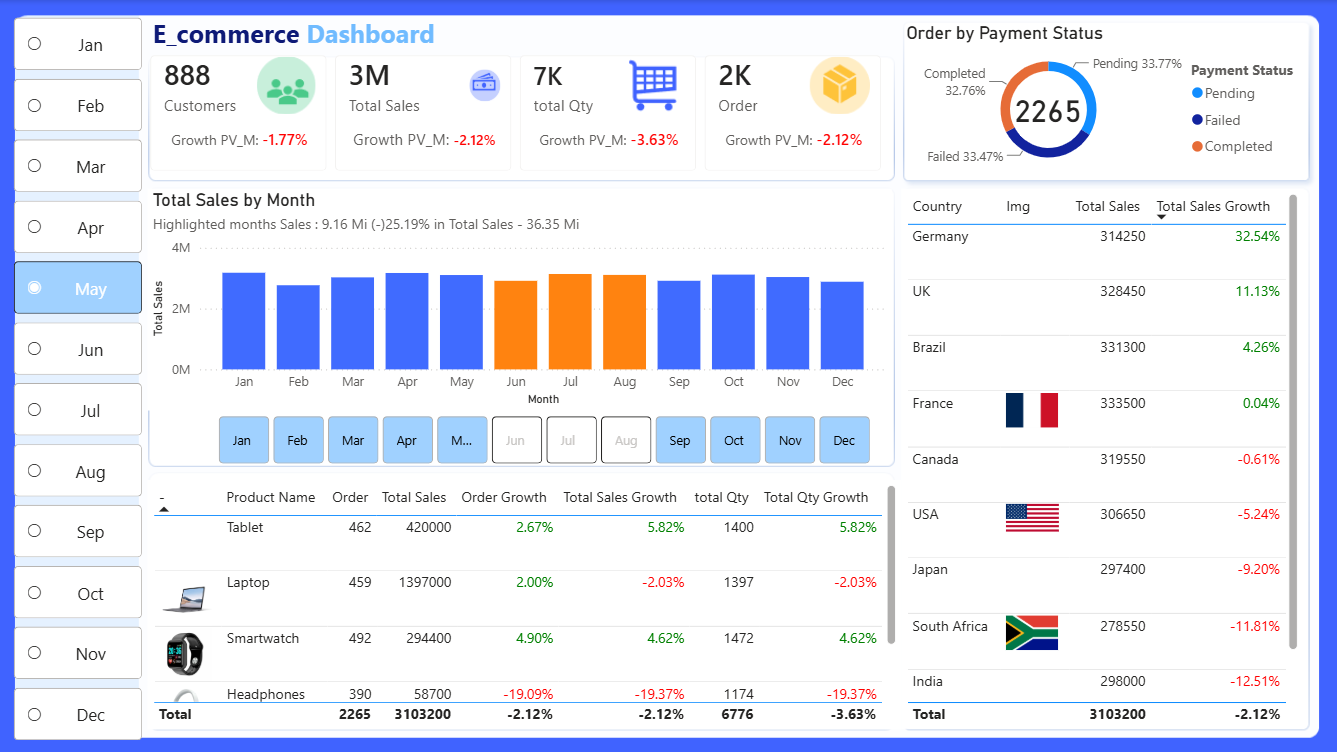

The page's visual inventory and layout, read from the dashboard file:
{"tool":"powerbi","page":{"name":"Page 1","canvas":[1280,720],"ordinal":0},"visuals":[{"type":"advancedSlicerVisual","fields":{"Values":["DimDate.Month"]},"box":[12.9,11.4,132.9,708.6],"z":0},{"type":"cardVisual","fields":{"Data":["Measuress.Customers","Measuress.Total Sales","Measuress.total Quantity","Measuress.Order"]},"box":[130.4,35.7,732.8,144.1],"z":1000},{"type":"donutChart","fields":{"Y":["Measuress.Order"],"Category":["Dim Payment Status.Payment Status"]},"box":[863.1,22,393.8,146.8],"z":2000},{"type":"card","fields":{"Values":["Measuress.Order"]},"box":[957.8,67.2,89.2,75.5],"z":3000},{"type":"clusteredColumnChart","fields":{"Y":["Measuress.Total Sales"],"Category":["DimDate.Month"]},"box":[145.7,180,708.6,211.4],"z":4000},{"type":"advancedSlicerVisual","fields":{"Values":["Monther.Monther"]},"box":[208.6,391.4,634.3,55.7],"z":5000},{"type":"textbox","box":[145.5,11,317,50.8],"z":6000},{"type":"tableEx","fields":{"Values":["Dim Product.Img","Dim Product.Product Name","Measuress.Order","Measuress.Total Sales","Measuress.Order Growth","Measuress.Total Sales Growth","Measuress.total Qty","Measuress.Total Qty Growth"]},"box":[145.5,456.9,717.7,237.4],"z":7000},{"type":"tableEx","fields":{"Values":["Dim Geography.Country","Dim Geography.Img","Measuress.Total Sales","Measuress.Total Sales Growth"]},"box":[863.1,179.8,382.8,514.6],"z":8000}]}

Visuals, with their boxes in screenshot pixels (x1, y1, x2, y2), scaled from the page's 1280x720 canvas onto the 1337x752 screenshot:
advancedSlicerVisual - DimDate.Month: Rect(13, 12, 152, 751)
cardVisual - Measuress.Customers x Measuress.Total Sales: Rect(136, 37, 902, 188)
donutChart - Measuress.Order x Dim Payment Status.Payment Status: Rect(902, 23, 1313, 176)
card - Measuress.Order: Rect(1000, 70, 1094, 149)
clusteredColumnChart - Measuress.Total Sales x DimDate.Month: Rect(152, 188, 892, 409)
advancedSlicerVisual - Monther.Monther: Rect(218, 409, 880, 467)
textbox: Rect(152, 11, 483, 65)
tableEx - Dim Product.Img x Dim Product.Product Name: Rect(152, 477, 902, 725)
tableEx - Dim Geography.Country x Dim Geography.Img: Rect(902, 188, 1301, 725)
